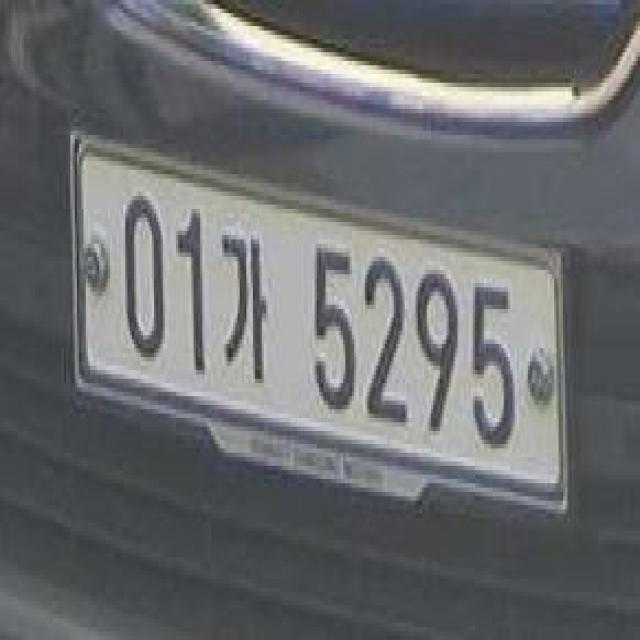illegal_plate: (71, 138, 563, 536)
